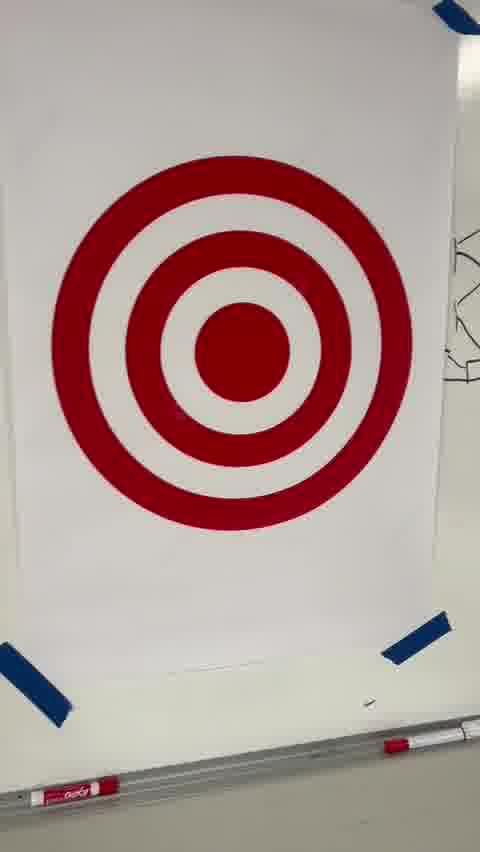target_red: (51, 155, 410, 526)
